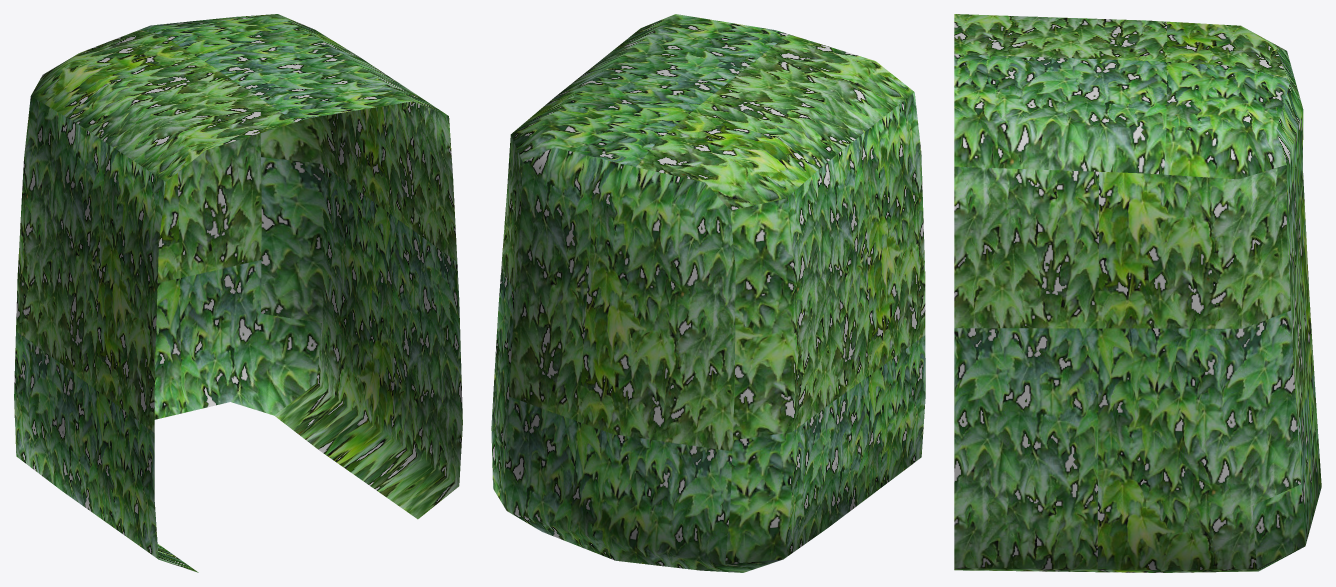
File: shrub_E.obj
The picture shows the model from 3 angles, left to right: view 1: azimuth 30°, elevation 25°; view 2: azimuth 150°, elevation 25°; view 3: azimuth 270°, elevation 25°; orthographic projection. The views are drawn at different scales.
Size of the model in its own units: 2.03 by 2.71 by 1.98.
